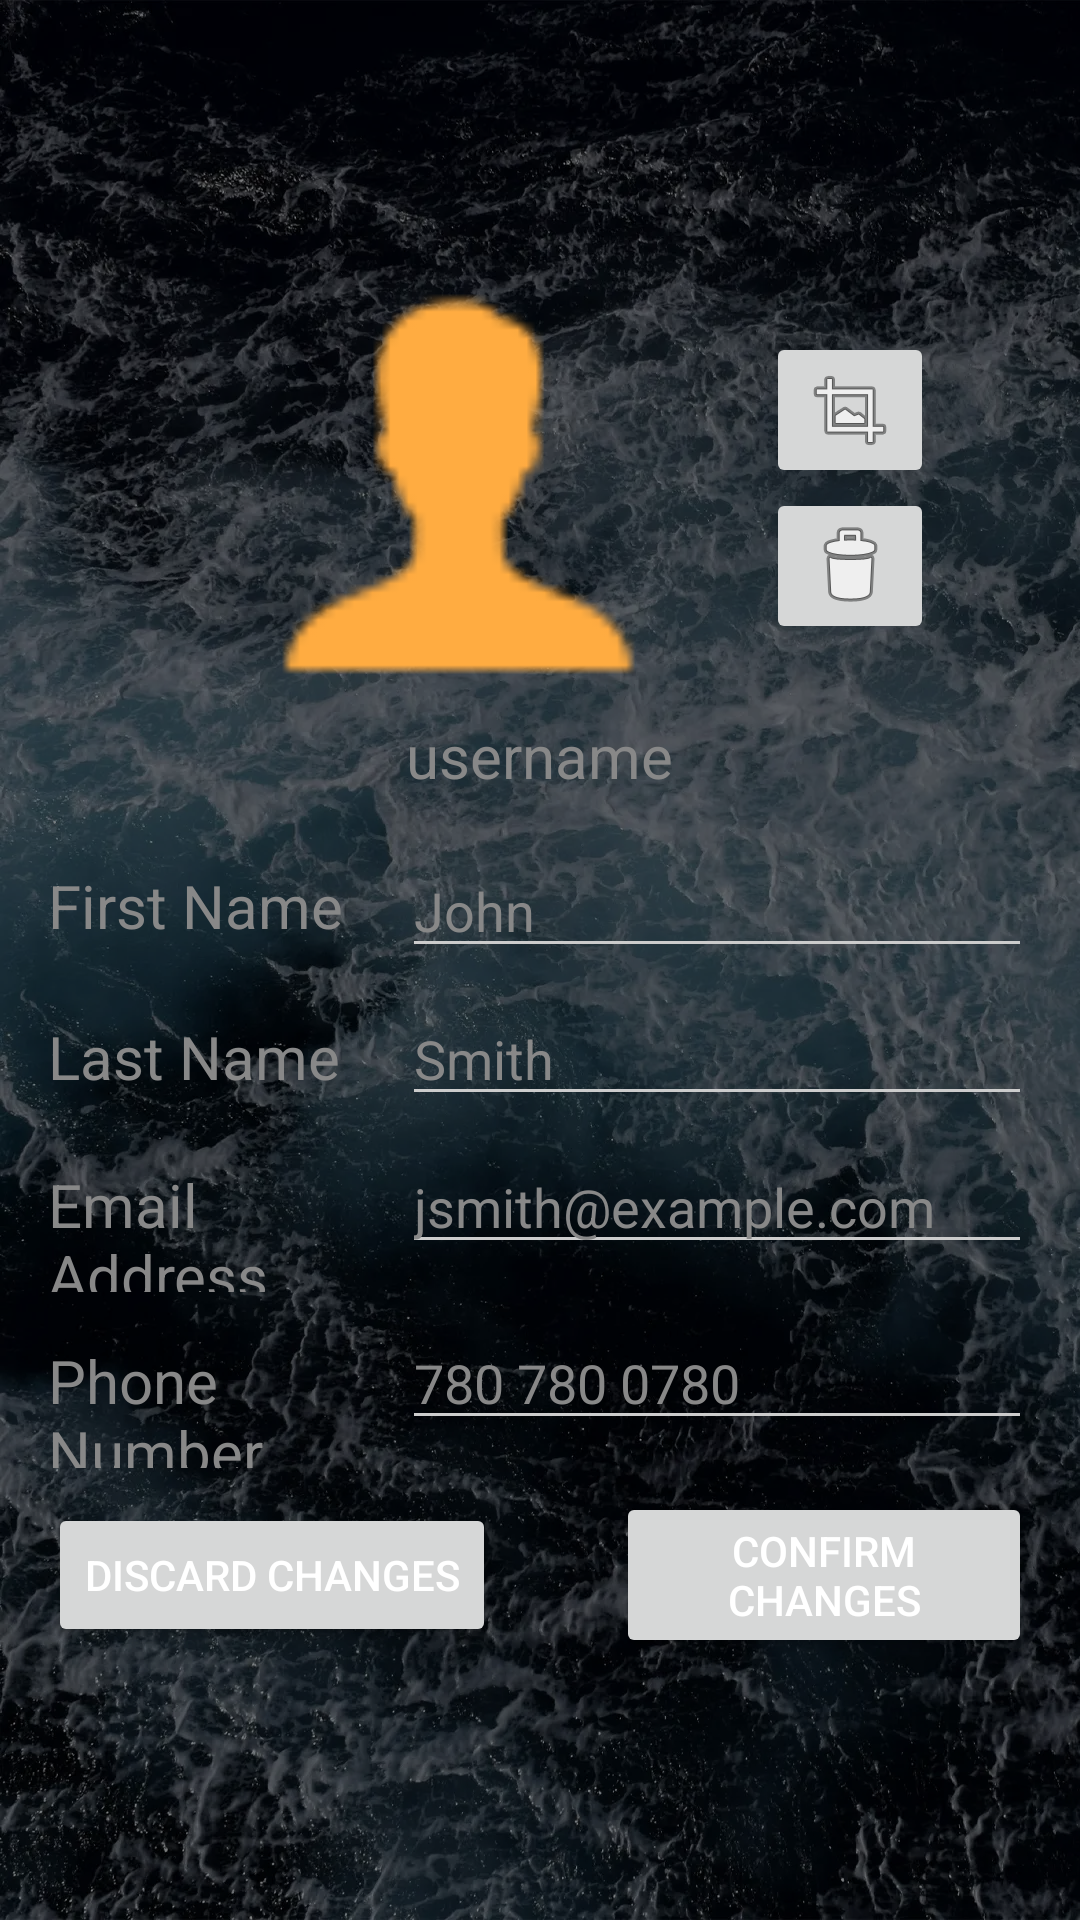

Point at icon controls on the screen. Image size 1080*1920, points as [x,y].
crop: [850,410]
delete: [850,566]
